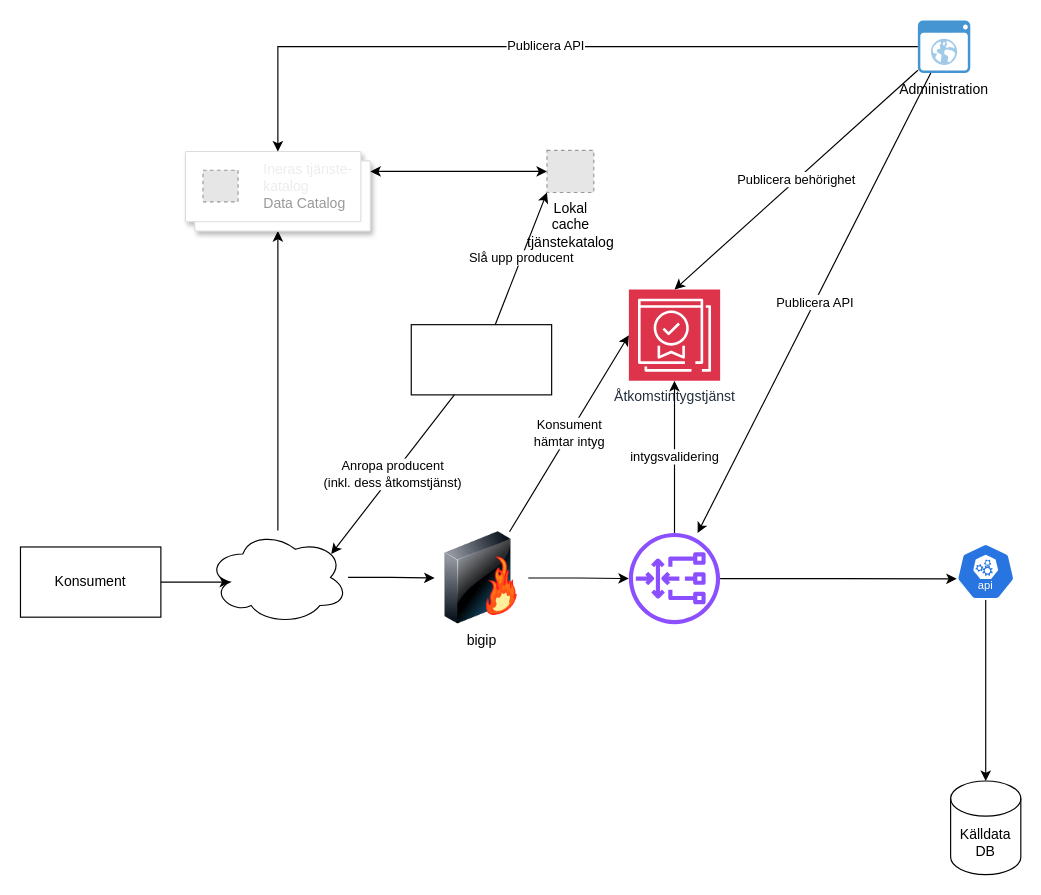
Some shapes in this 1041 by 895 pixel diagram are drawn without their labels. Grey dashed boxes stand in for pictures. The centre of each missing label's shape, as x and y in pixels:
API Gateway: pixel 674 578
RÖL Konsument: pixel 481 359
sjunet: pixel 277 576
